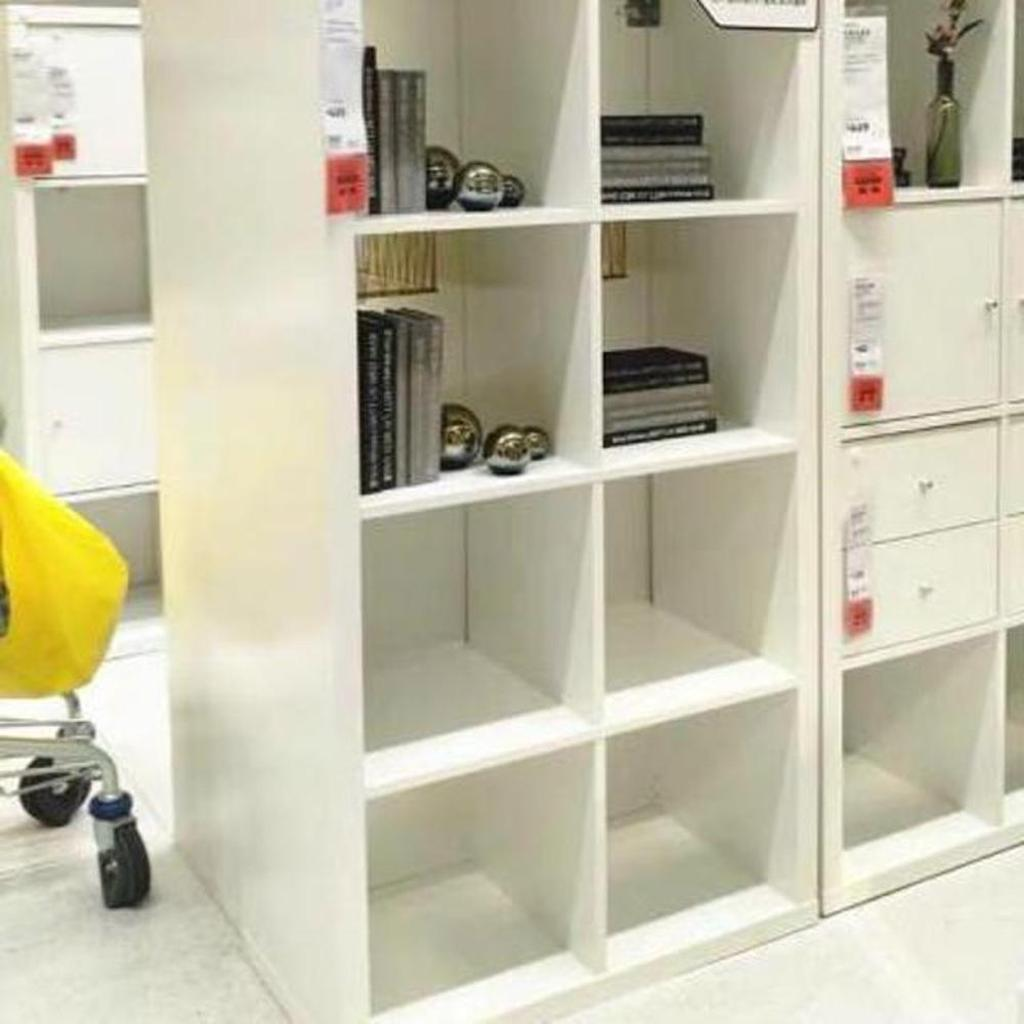lamp: (138, 0, 822, 1022), (824, 0, 1022, 928)
